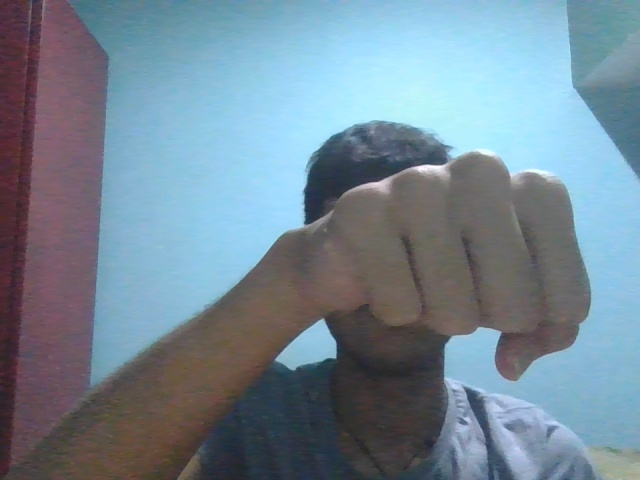yes: (224, 144, 627, 406)
